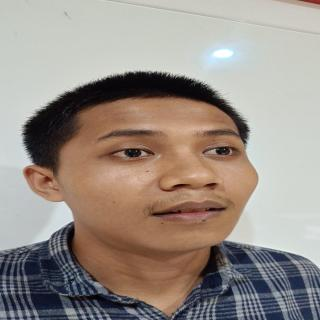Takut: (60, 88, 265, 265)
